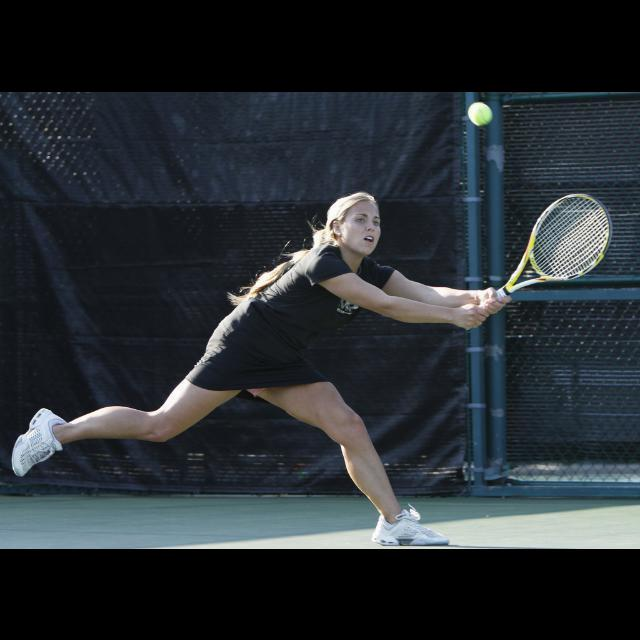Tennis Ball: (466, 99, 493, 126)
